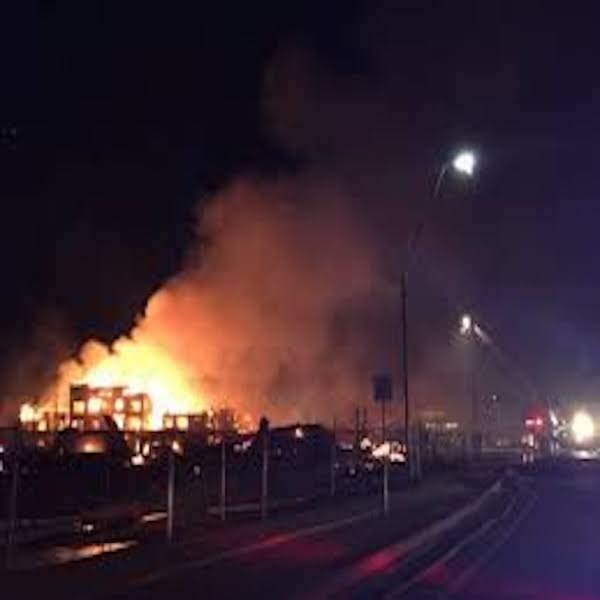fire: (67, 323, 272, 406)
